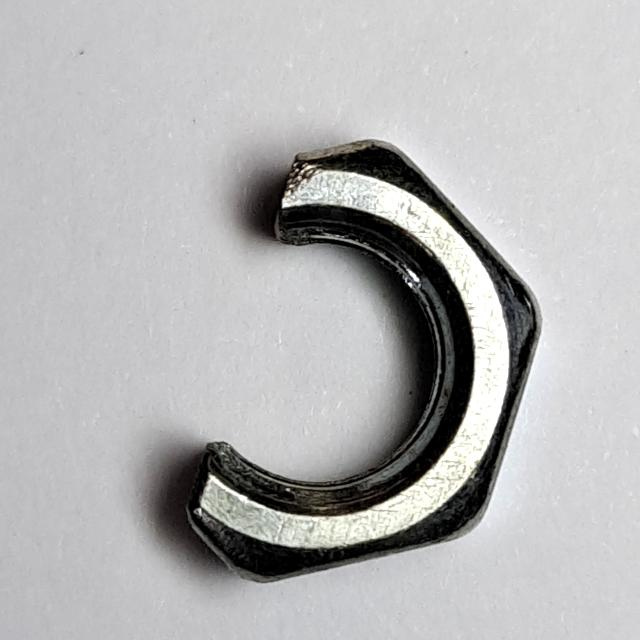Fracture: (175, 117, 550, 598)
